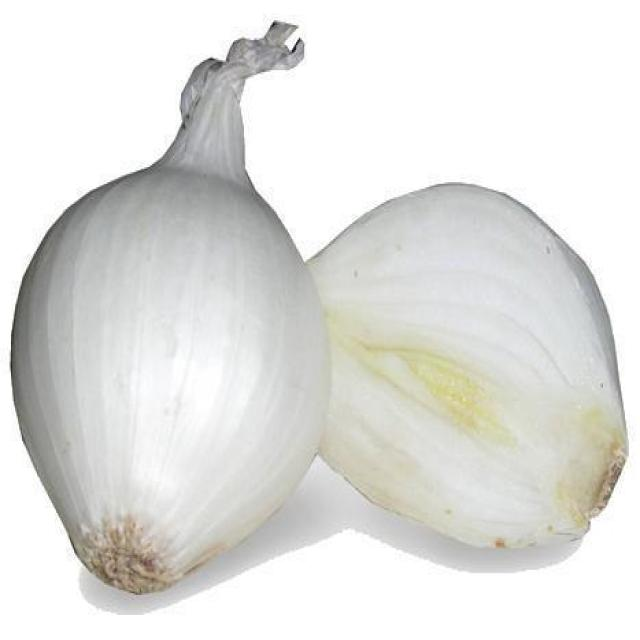Onion: (9, 20, 332, 595), (304, 180, 629, 575)
